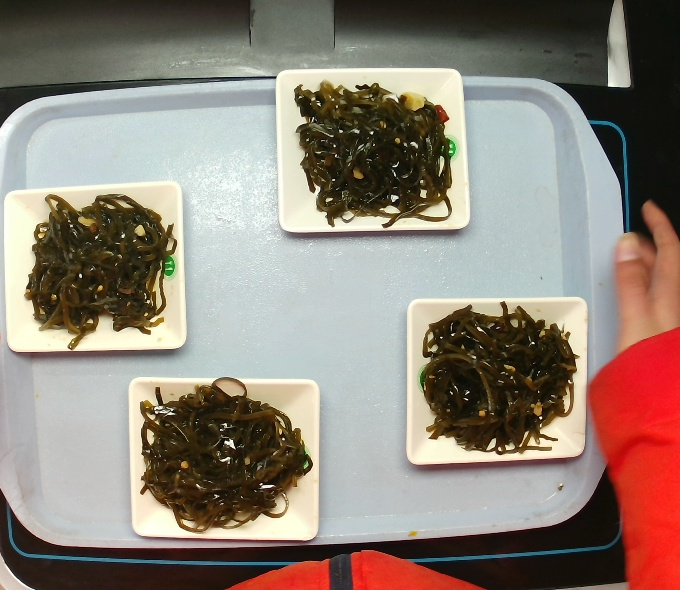wcq-LiangBanHaiDai: (127, 378, 315, 532), (287, 69, 458, 232), (418, 294, 573, 460), (20, 189, 176, 343)
